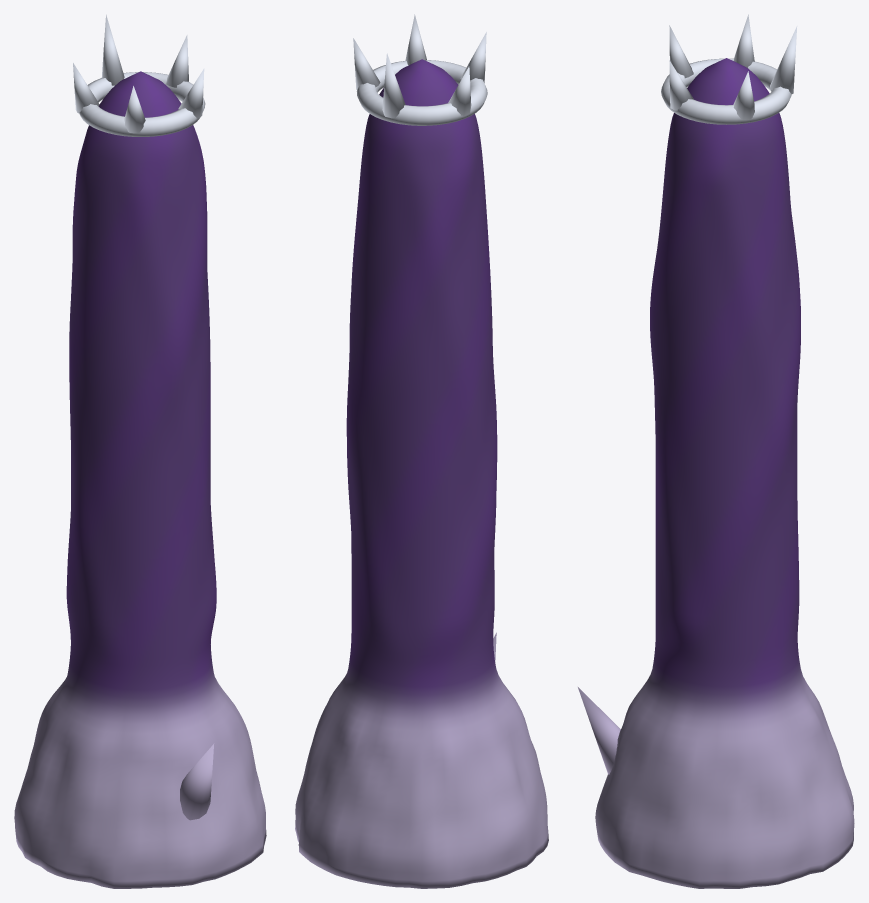
File: queen_purple.glb
3 views of the same model, side by side, from view 1: azimuth 30°, elevation 25°; view 2: azimuth 150°, elevation 25°; view 3: azimuth 270°, elevation 25° (orthographic).
Visible parts, largest first — view 1: queen, tiara; view 2: queen, tiara; view 3: queen, tiara.
Part boxes in pixels (x1,y1,x2,y2): queen: [14, 71, 266, 888]; tiara: [73, 14, 205, 136]; queen: [295, 59, 548, 888]; tiara: [353, 14, 487, 125]; queen: [578, 58, 854, 888]; tiara: [661, 14, 797, 124].
Size of the model in its own units: 0.344 by 1.2 by 0.3715.
